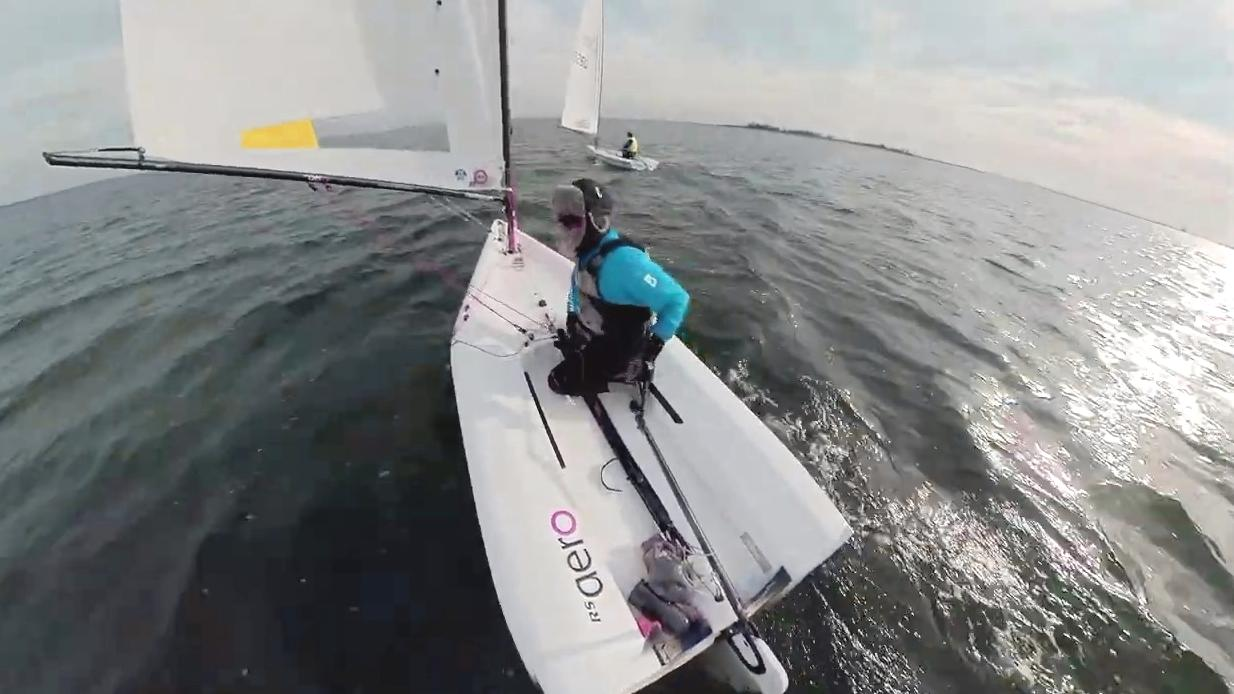boat: (51, 0, 857, 694)
person: (550, 182, 692, 397)
sea: (510, 119, 1234, 694), (0, 154, 536, 694)
sky: (501, 0, 1234, 244), (0, 0, 132, 207)
